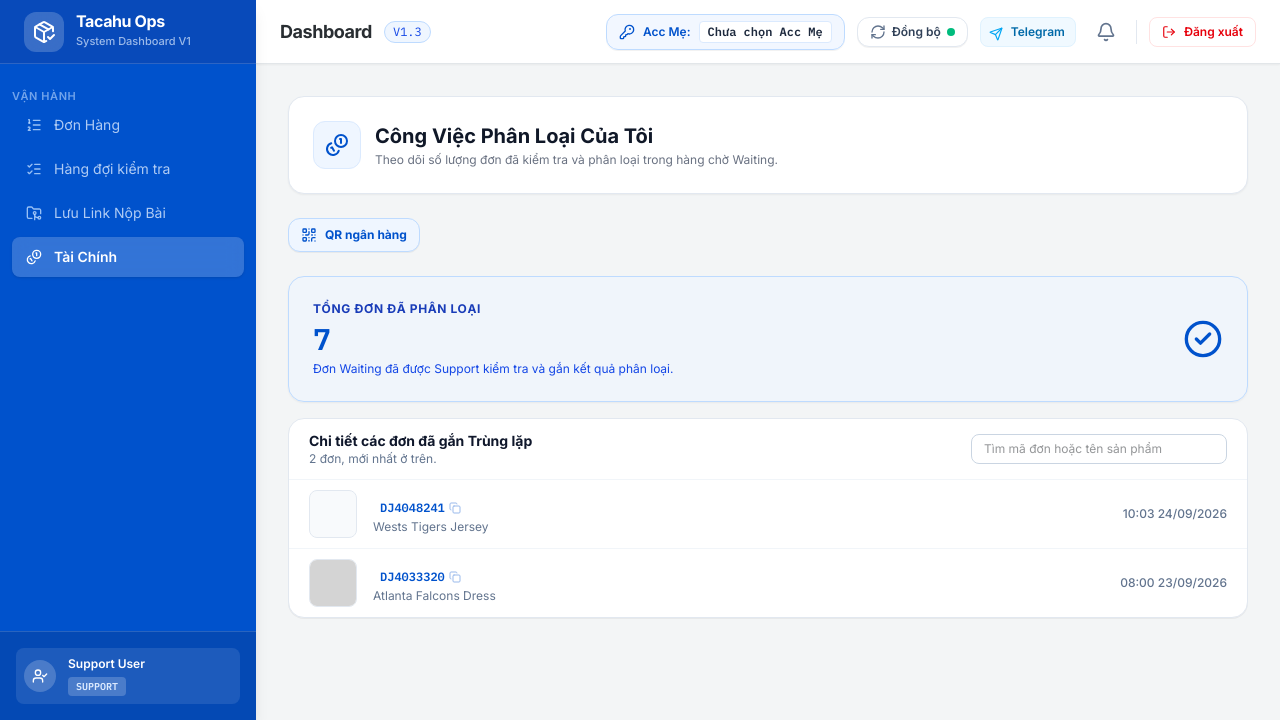
Test: FinancePage › shows Support only its classification count and does not request payment finance
Check: the heading "Công Việc Phân Loại Của Tôi" is shown, box [375,124,653,148]
Check: the text "Tổng đơn đã phân loại" is shown, box [313,301,481,316]
Type "falcons" into the search field named "Tìm trong các đơn đã gắn Trùng lặp".
click(1099, 449); type("falcons")  # box [971,434,1227,464]
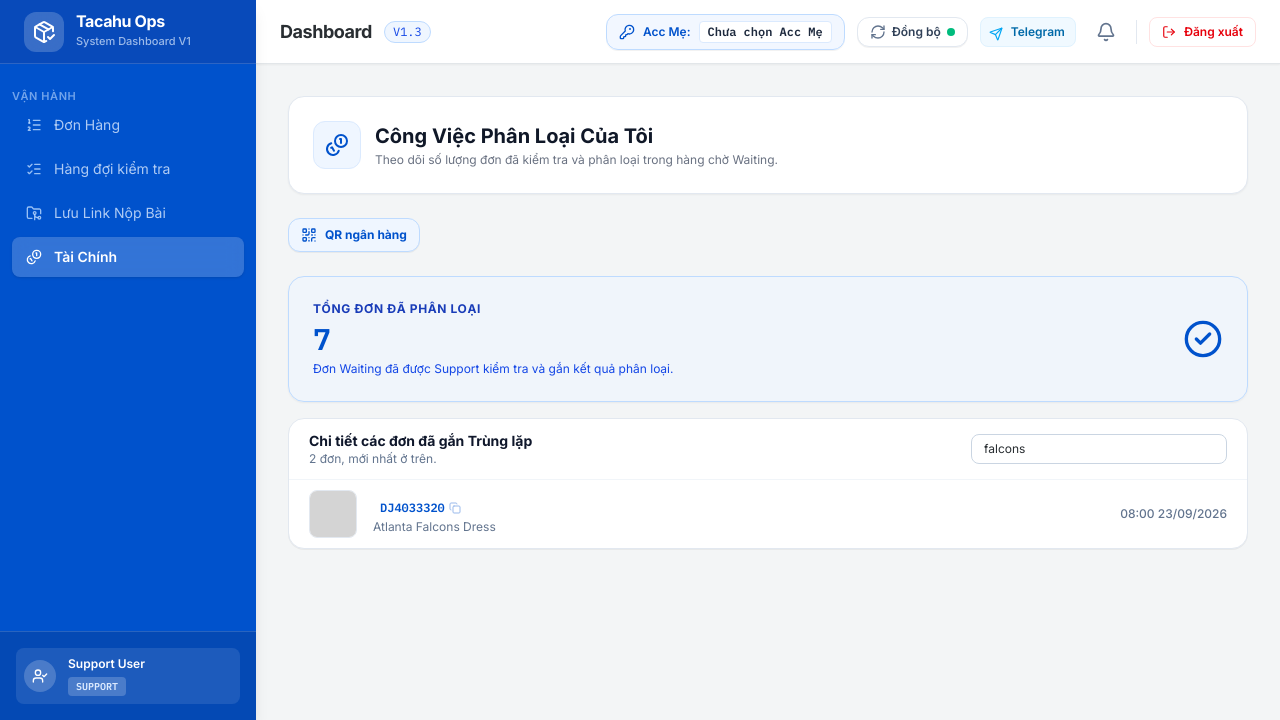
Check: the text "DJ4033320" is shown, box [380,500,445,516]
Check: the button "DJ4048241" is gone
Replace the text in the search field named "Tìm trong các đơn đã gắn Trùng lặp" with "zzz" at (1099, 449), box [971,434,1227,464]
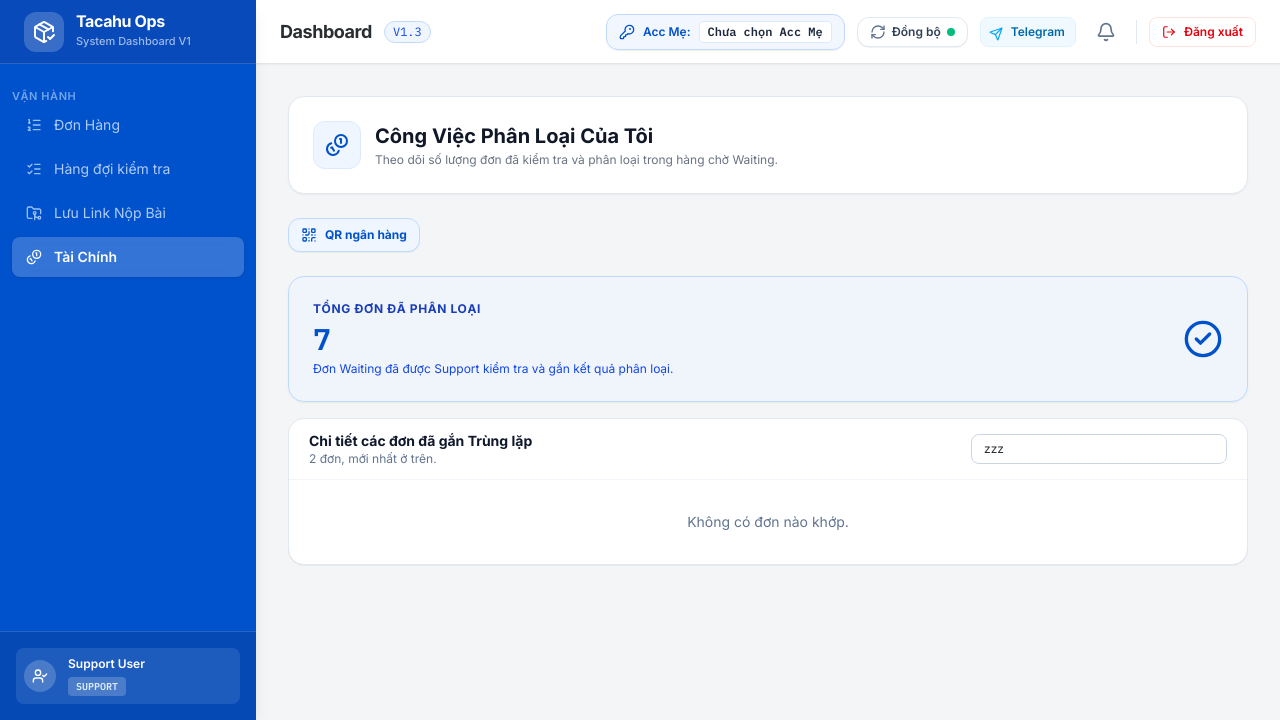
Check: the text "Không có đơn nào khớp." is shown, box [687,513,849,530]
